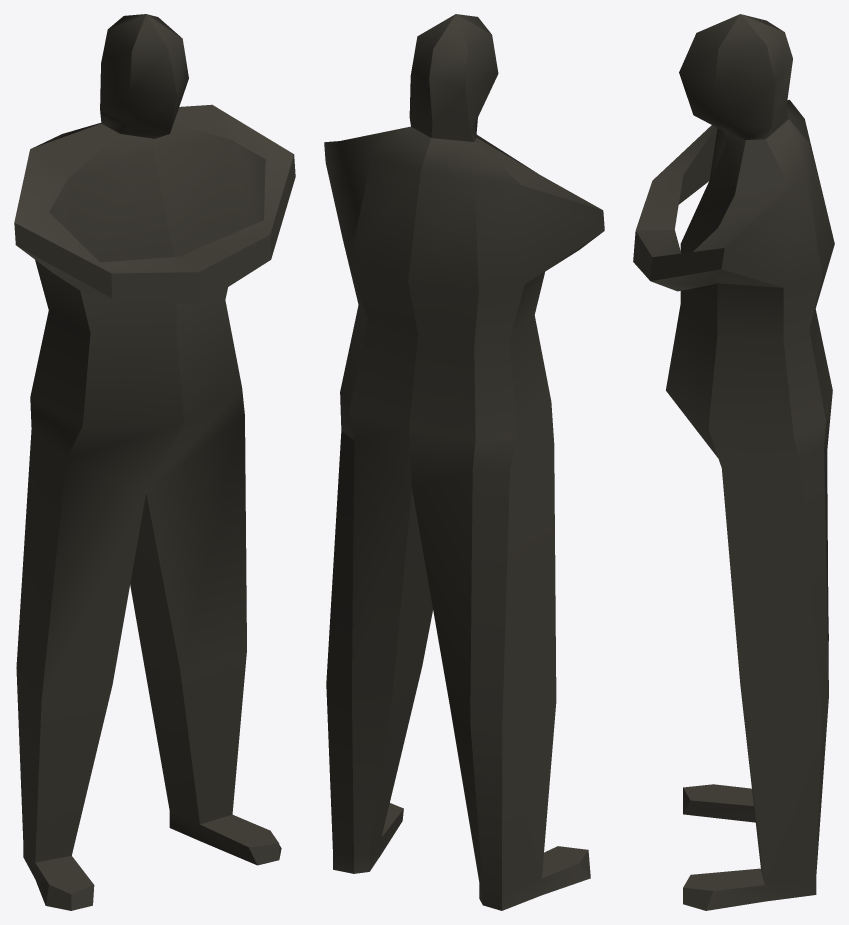
File: Man.obj
3 renders of one model, left to right at view 1: azimuth 30°, elevation 25°; view 2: azimuth 150°, elevation 25°; view 3: azimuth 270°, elevation 25°, orthographic.
Parts seen in each view (by area): view 1: pCube1; view 2: pCube1; view 3: pCube1.
Part boxes in pixels (left/top/right/bottom): pCube1: left=14, top=14, right=295, bottom=910; pCube1: left=324, top=14, right=604, bottom=910; pCube1: left=633, top=14, right=834, bottom=910.
Bounding box in the file's own units: 62.91 × 183 × 39.76.
